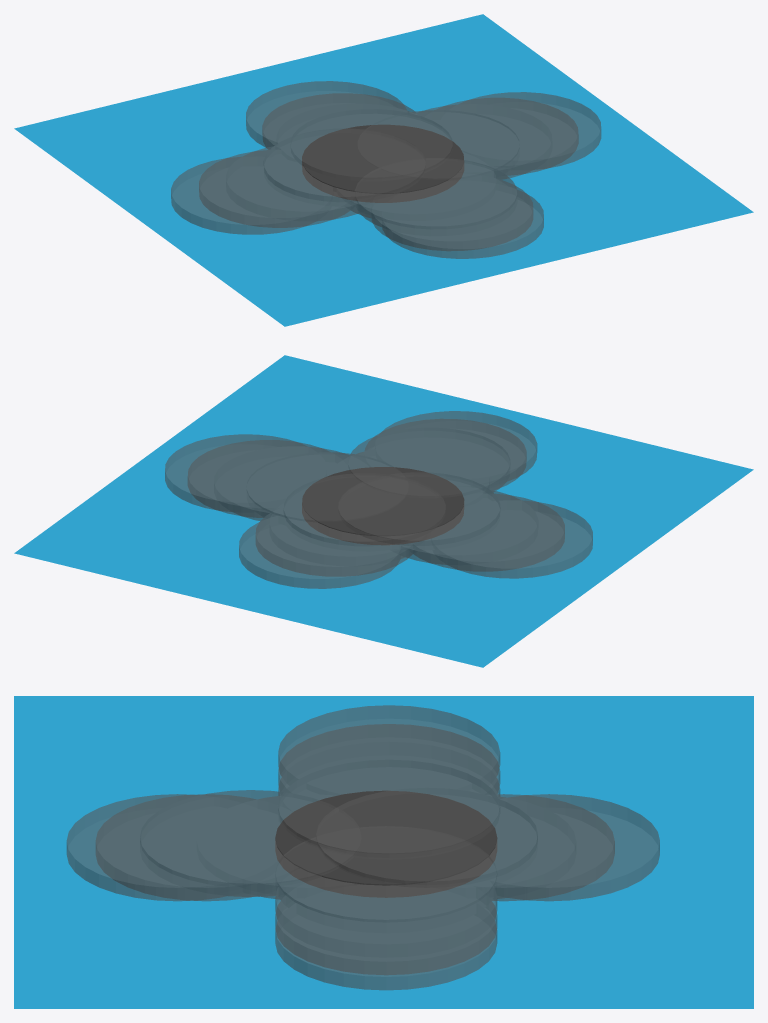
The model's file is difusividad.fbx.
3 renders of one model, top to bottom at view 1: azimuth 30°, elevation 25°; view 2: azimuth 150°, elevation 25°; view 3: azimuth 270°, elevation 25°, orthographic. The views are drawn at different scales.
Parts seen in each view (by area): view 1: Cylinder.010; view 2: Cylinder.010; view 3: Cylinder.010.
Part boxes in pixels (bbox=[...]): Cylinder.010: bbox=[14, 14, 753, 326]; Cylinder.010: bbox=[14, 355, 753, 667]; Cylinder.010: bbox=[14, 696, 753, 1008].
Bounding box in the file's own units: 200 × 6.3 × 200.
